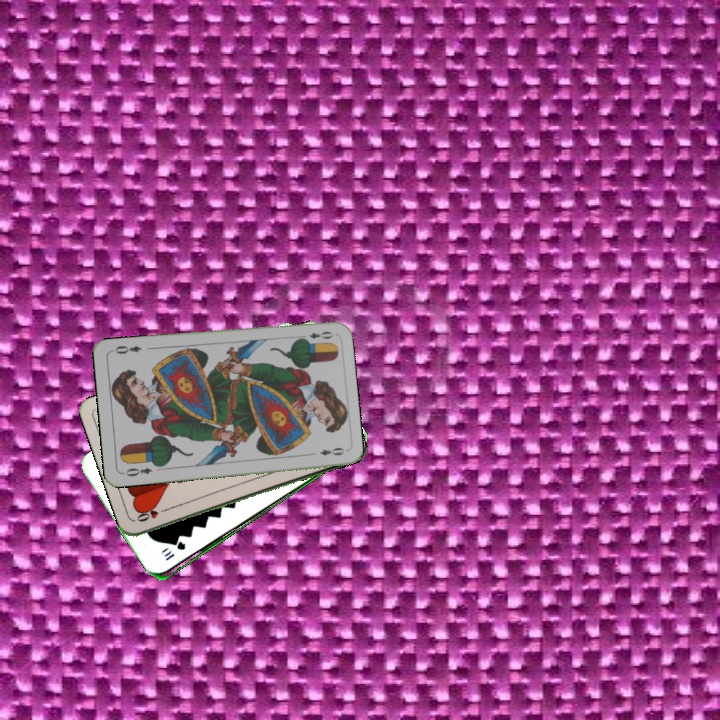EO: (296, 327, 336, 344), (122, 464, 155, 479)
G10: (161, 539, 188, 563)
HO: (132, 504, 171, 524)
